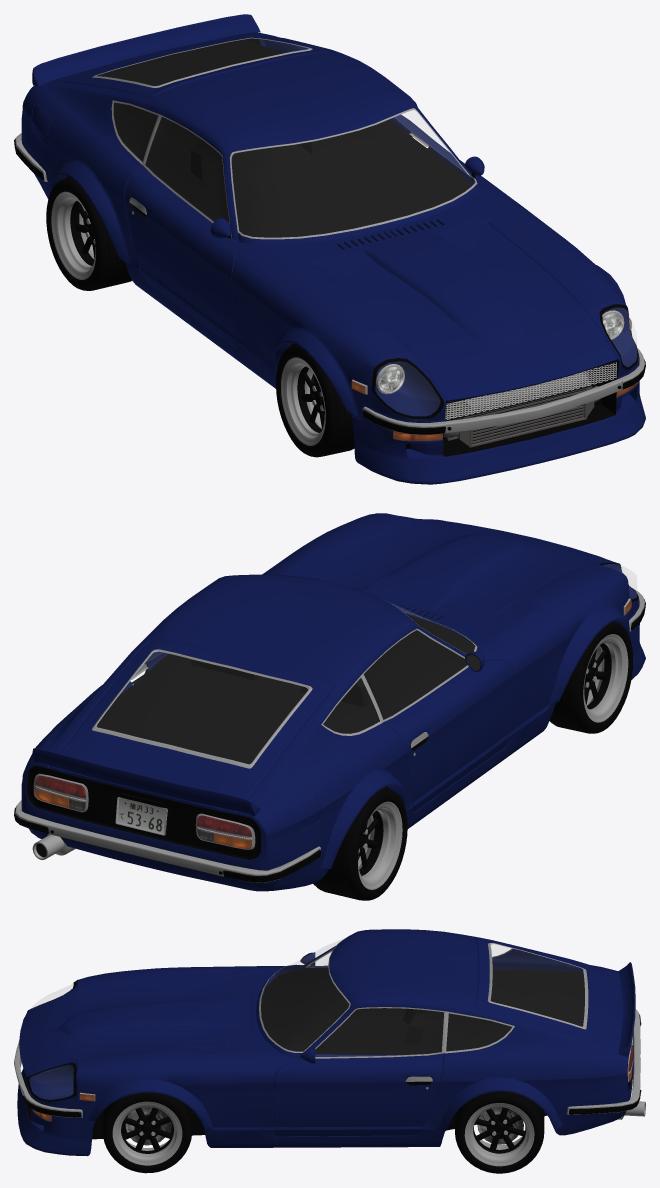
File: devilz.glb
3 renders of one model, top to bottom at view 1: azimuth 30°, elevation 25°; view 2: azimuth 150°, elevation 25°; view 3: azimuth 270°, elevation 25°, orthographic. The views are drawn at different scales.
Parts seen in each view (by area): view 1: Body, WheelsF, WheelsR; view 2: Body, WheelsR, WheelsF; view 3: Body, WheelsR, WheelsF, BrakeF, BrakeR.
Boxes of the visible parts, <box> form: Body: <box>14,14,645,484</box>; WheelsF: <box>276,330,632,457</box>; WheelsR: <box>46,177,132,290</box>; Body: <box>14,513,645,891</box>; WheelsR: <box>313,787,407,900</box>; WheelsF: <box>549,621,632,733</box>; Body: <box>14,929,645,1156</box>; WheelsR: <box>455,1091,544,1173</box>; WheelsF: <box>103,1092,191,1173</box>; BrakeF: <box>125,1106,171,1145</box>; BrakeR: <box>477,1107,523,1144</box>.
Size of the model in its own units: 2.04 by 1.28 by 4.66.
15 materials, 8 textured.
